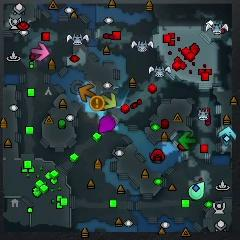Other: (90, 96, 104, 110)
p2: (188, 181, 206, 201)
p3: (98, 115, 116, 133)
x1: (31, 43, 49, 61)
x2: (101, 93, 117, 109)
x3: (219, 125, 237, 147)
x4: (179, 131, 197, 150)
x5: (79, 83, 96, 102)
